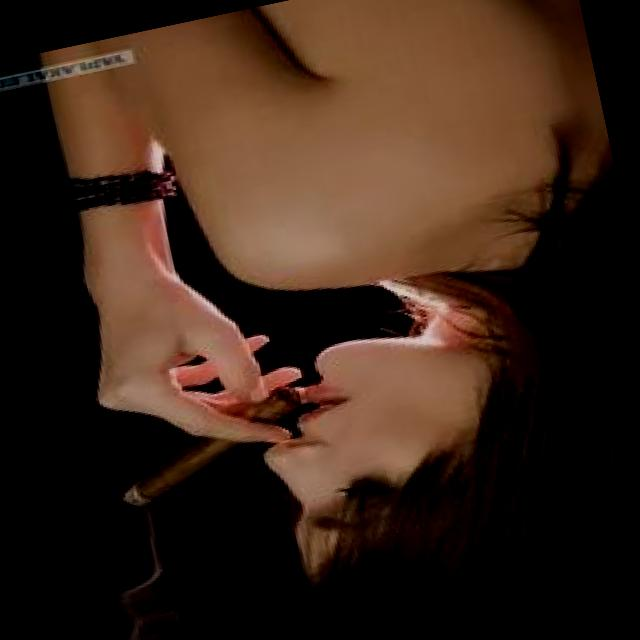smoke: (99, 374, 316, 516)
